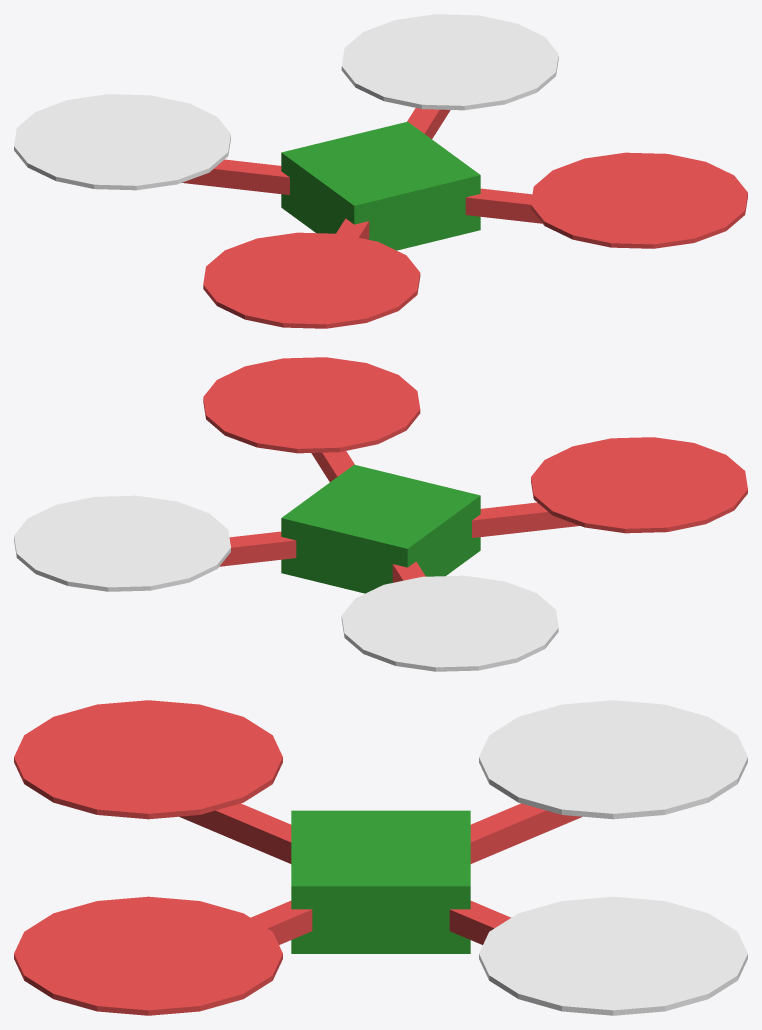
File: quad_2.glb
The picture shows the model from 3 angles, top to bottom: view 1: azimuth 30°, elevation 25°; view 2: azimuth 150°, elevation 25°; view 3: azimuth 270°, elevation 25°; orthographic projection. The views are drawn at different scales.
Bounding box in the file's own units: 2.46 × 0.25 × 2.46.
